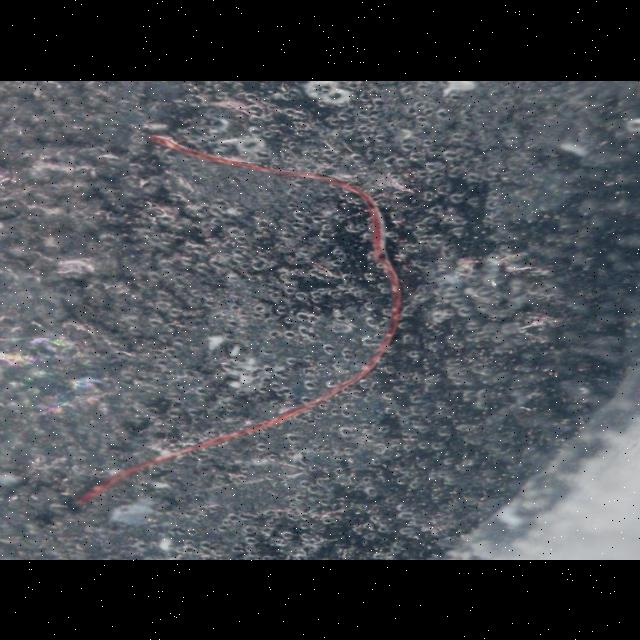Fibre: (71, 134, 405, 506)
